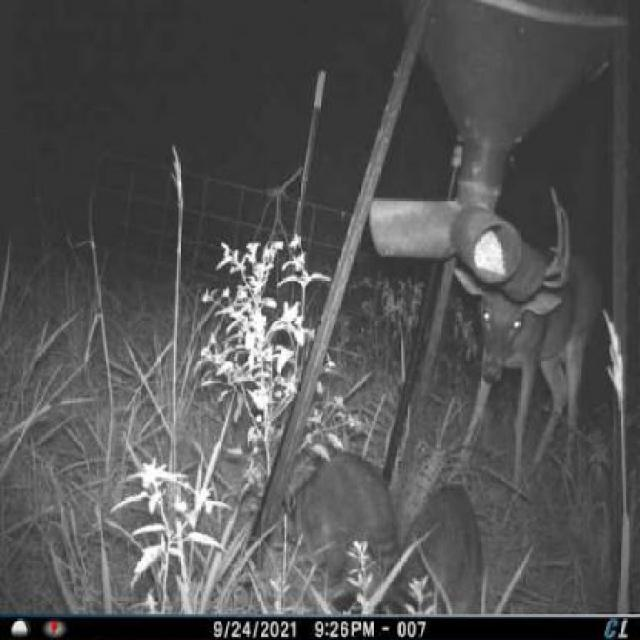Deer: (444, 184, 599, 536)
